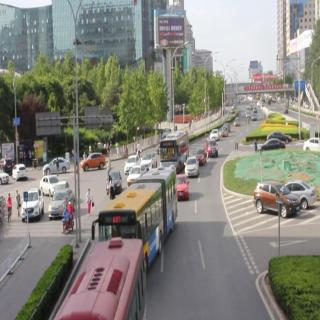BigCar: (159, 131, 191, 170)
Car: (252, 179, 301, 225), (47, 190, 76, 224), (41, 151, 74, 179), (23, 186, 43, 222), (79, 153, 107, 173), (181, 155, 202, 180), (104, 169, 123, 195), (124, 154, 140, 174)
